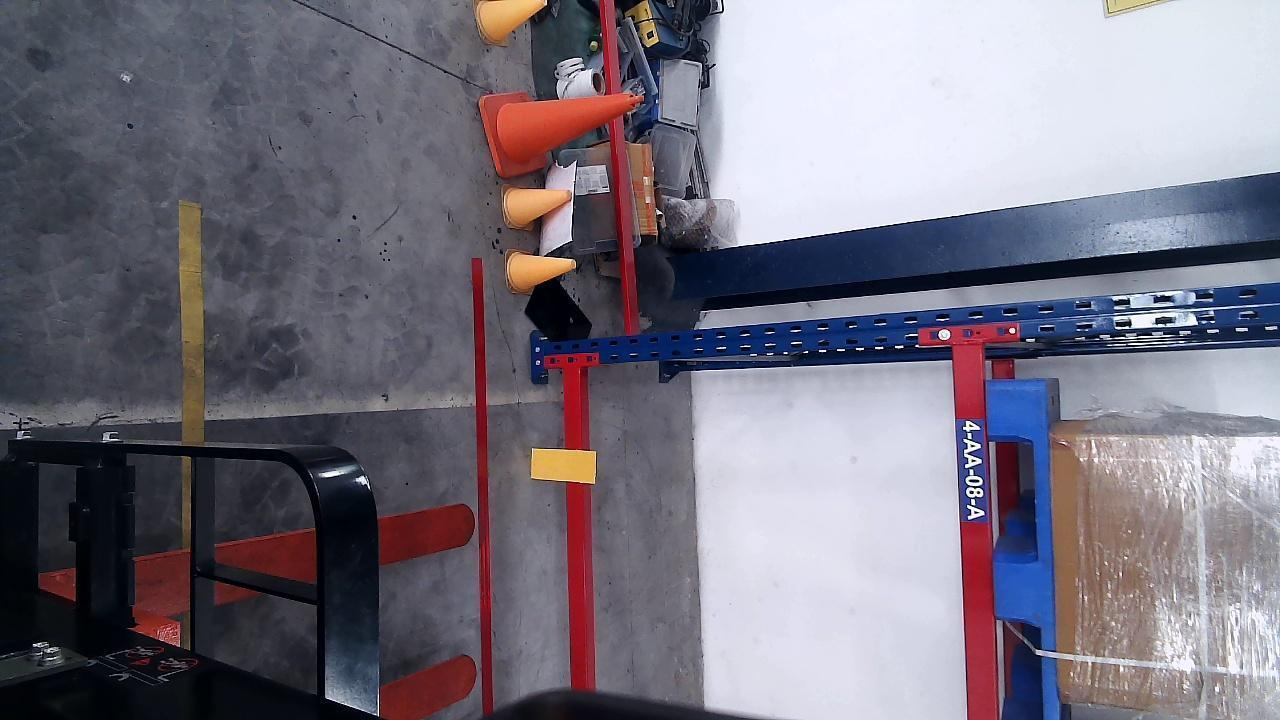red_line: (470, 255, 496, 713)
yellow_line: (178, 202, 205, 442)
